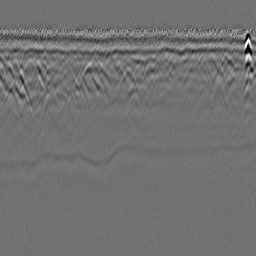cavity: (115, 64, 142, 105)
